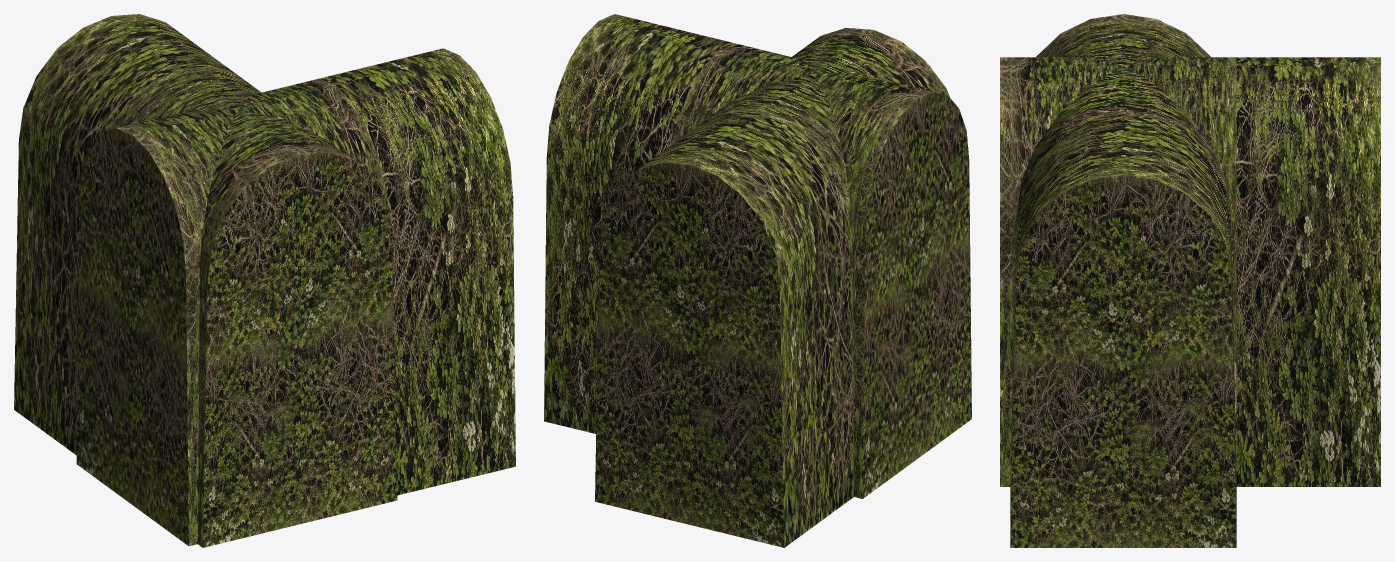
File: hedge_corner.glb
The picture shows the model from 3 angles, left to right: view 1: azimuth 30°, elevation 25°; view 2: azimuth 150°, elevation 25°; view 3: azimuth 270°, elevation 25°; orthographic projection. The views are drawn at different scales.
Size of the model in its own units: 0.74 by 0.8 by 0.74.
1 material, 1 textured.
